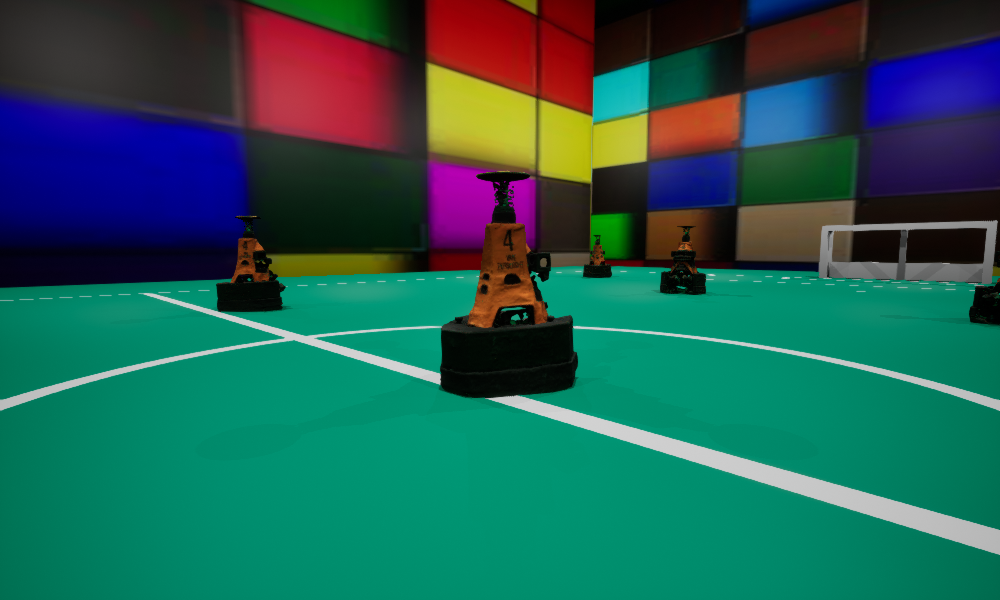o: (440, 171, 577, 397), (216, 216, 285, 311), (660, 226, 705, 293), (969, 251, 999, 323), (583, 235, 611, 277)
